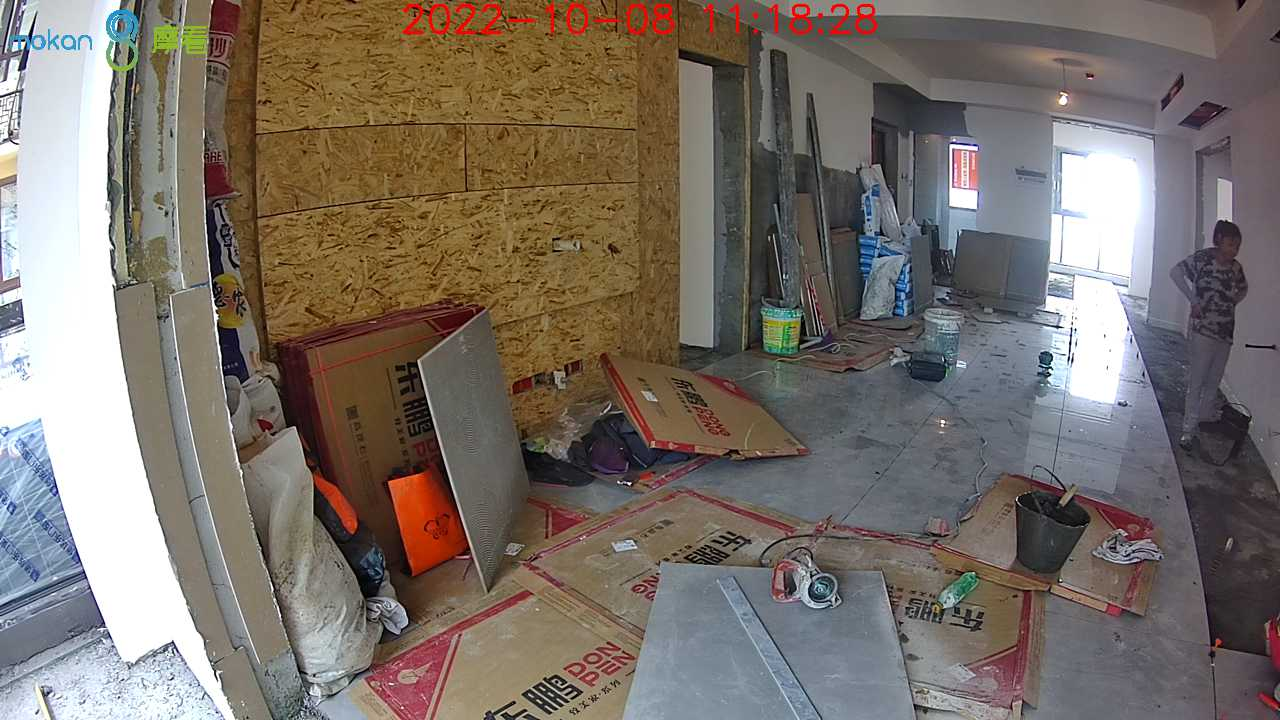people: (1169, 219, 1248, 448)
window: (1053, 146, 1137, 279)
